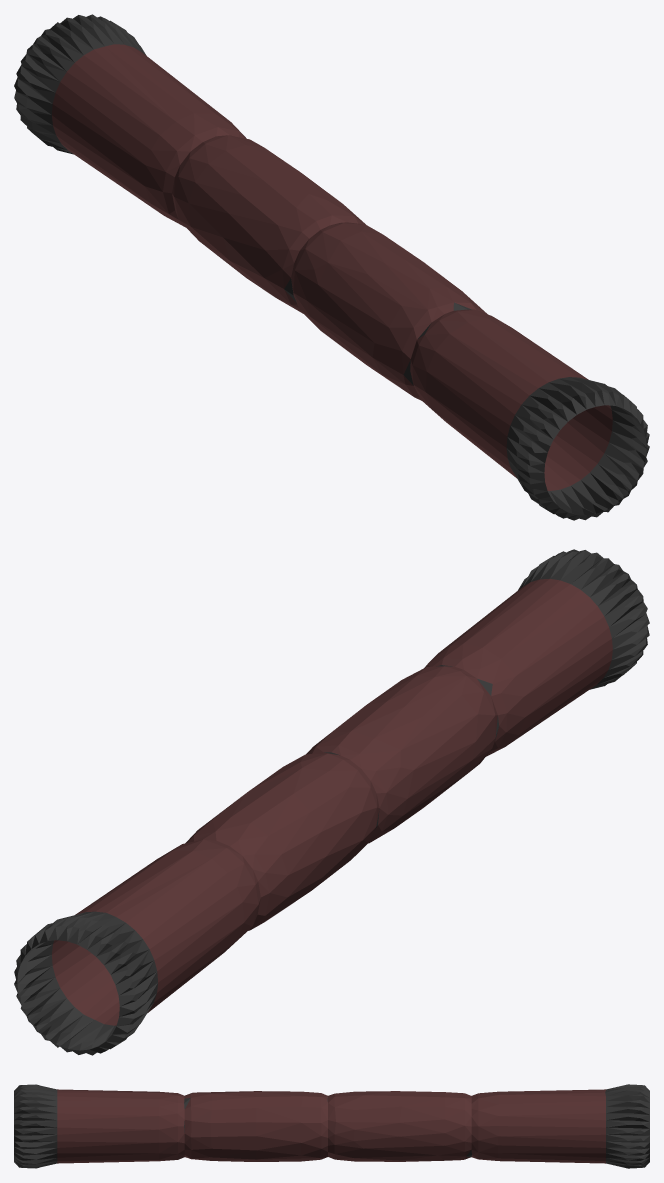
File: Blowgun.fbx
The picture shows the model from 3 angles, top to bottom: view 1: azimuth 30°, elevation 25°; view 2: azimuth 150°, elevation 25°; view 3: azimuth 270°, elevation 25°; orthographic projection. The views are drawn at different scales.
Parts seen in each view (by area): view 1: Circle; view 2: Circle; view 3: Circle.
Boxes of the visible parts, <box> form: Circle: <box>14,14,649,520</box>; Circle: <box>14,549,649,1055</box>; Circle: <box>14,1084,649,1168</box>.
Size of the model in its own units: 234 by 234 by 1770.
